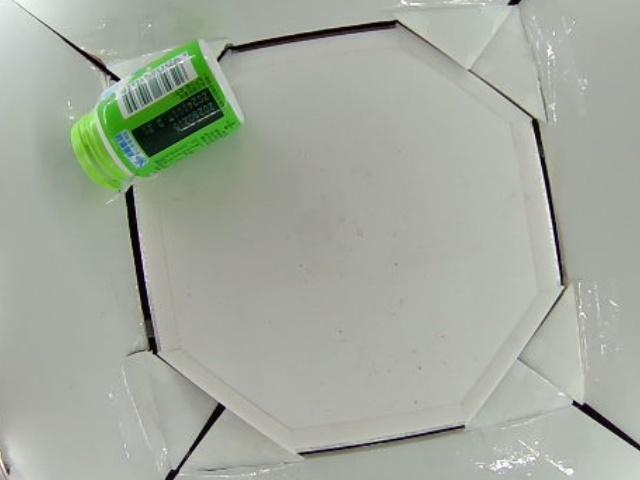Bottle: (69, 36, 248, 193)
